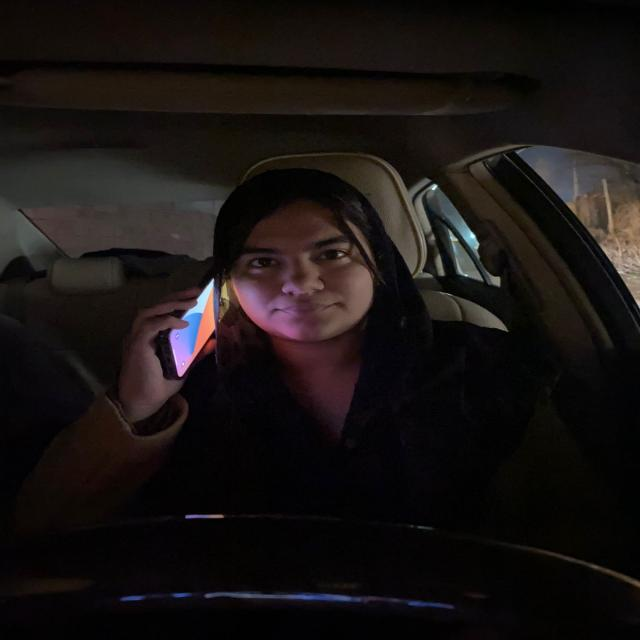mobile: (153, 262, 240, 376)
person: (242, 188, 388, 349)
